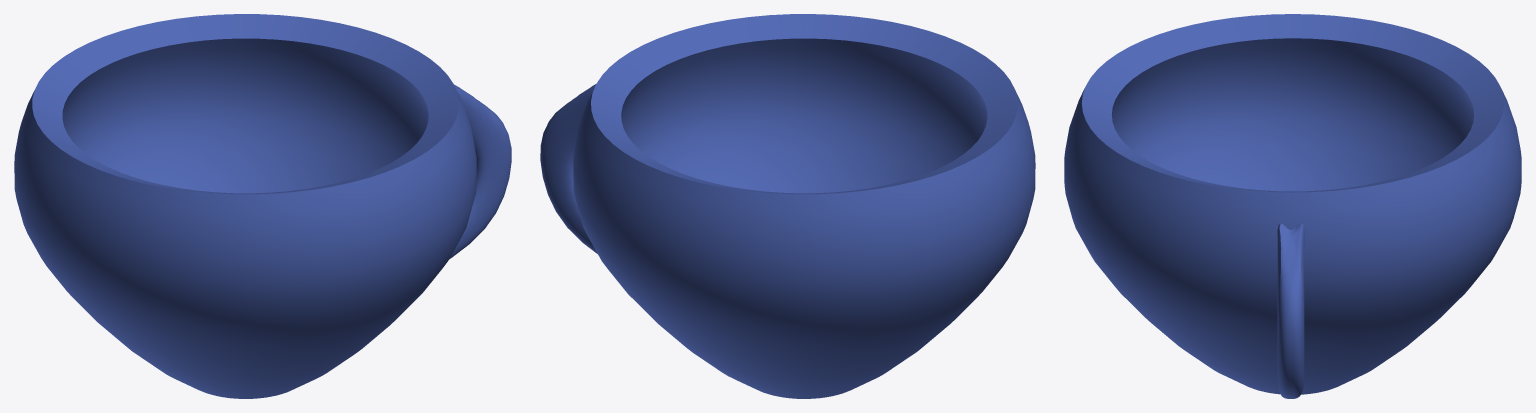
The model's file is Cup.fbx.
3 renders of one model, left to right at view 1: azimuth 30°, elevation 25°; view 2: azimuth 150°, elevation 25°; view 3: azimuth 270°, elevation 25°, orthographic.
Parts seen in each view (by area): view 1: Cup; view 2: Cup; view 3: Cup.
Part boxes in pixels (x1=…): Cup: x1=14, y1=14, x2=511, y2=398; Cup: x1=540, y1=14, x2=1035, y2=398; Cup: x1=1064, y1=14, x2=1521, y2=398.
Size of the model in its own units: 162 by 89.82 by 140.
